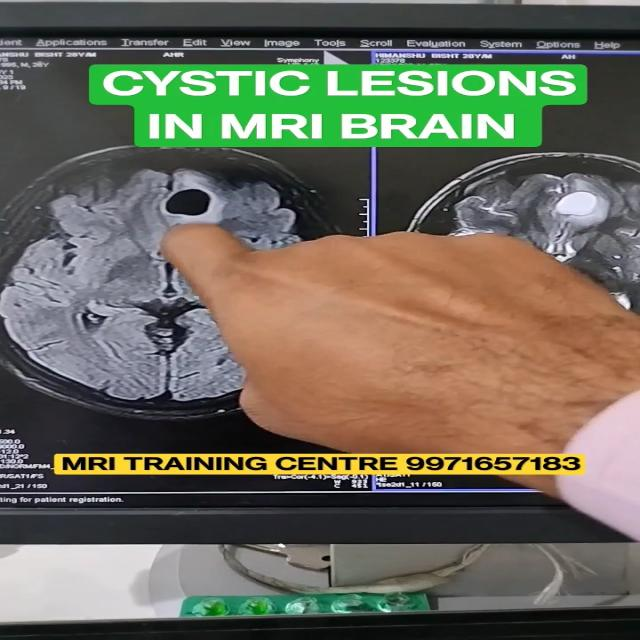tumor: (158, 164, 231, 251)
